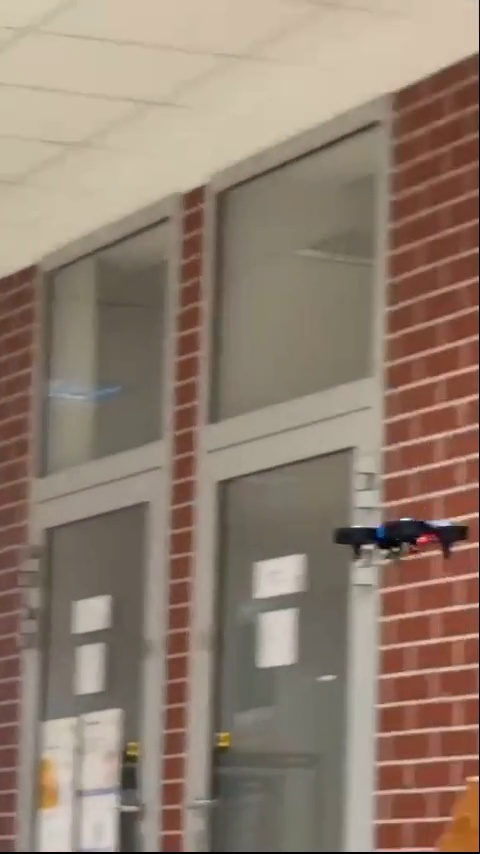drone: (333, 520, 474, 554)
